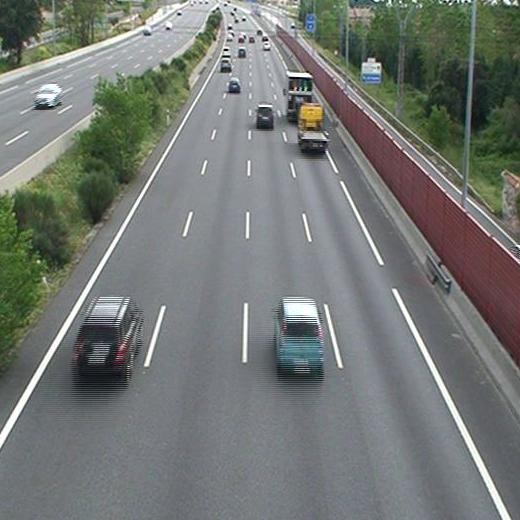car: (76, 298, 141, 369), (276, 297, 324, 369), (257, 105, 275, 124), (228, 79, 240, 92), (220, 58, 232, 69), (262, 41, 272, 50), (221, 47, 230, 56), (238, 48, 247, 56)
small-truck: (298, 102, 328, 152), (286, 71, 311, 118)
